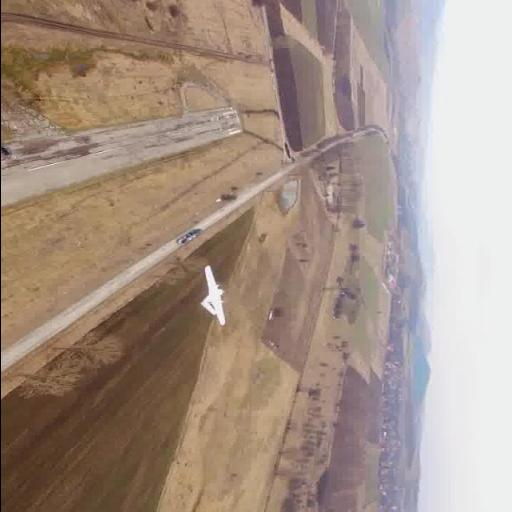uav: (188, 260, 234, 326)
